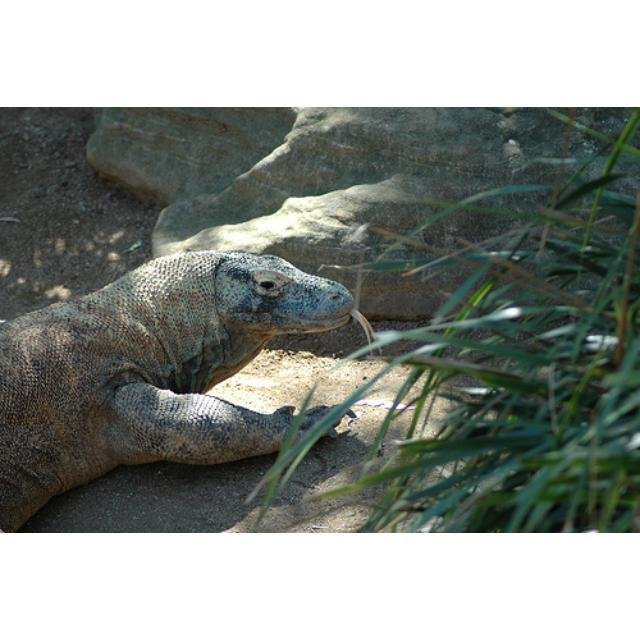KomodoDragon: (0, 250, 378, 531)
